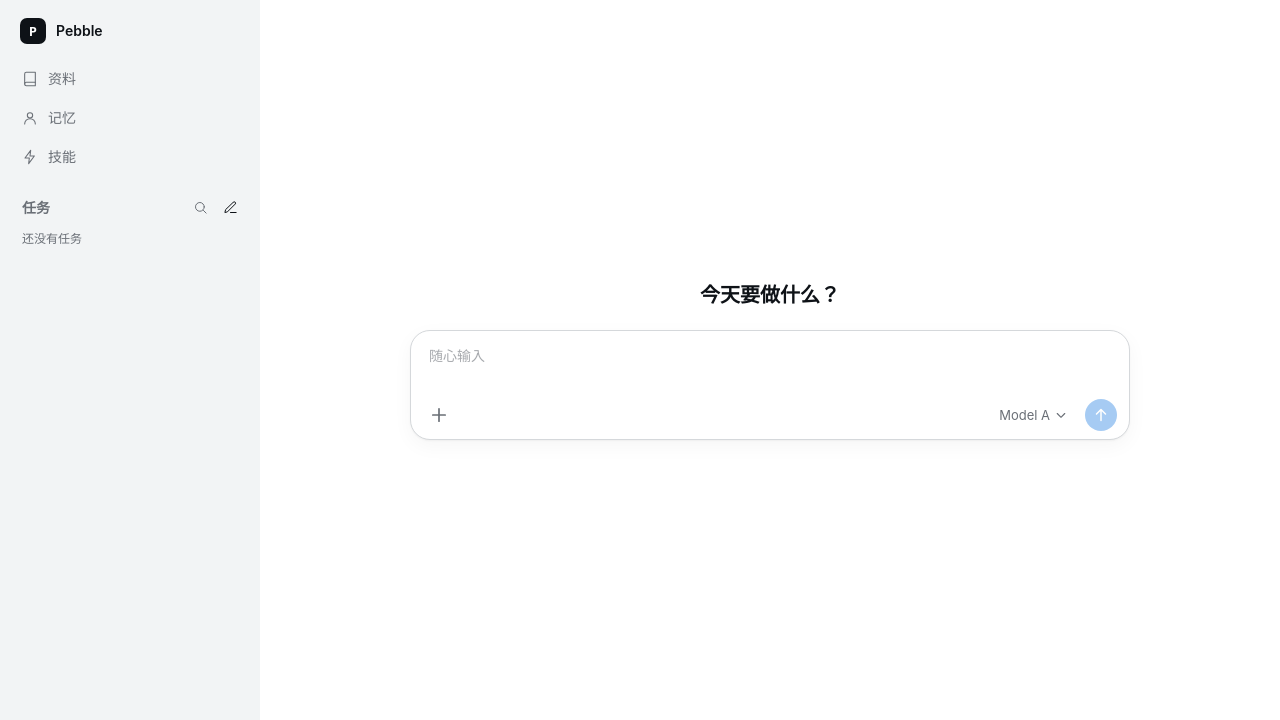
Test: 任务执行中底部按钮换成终止，点击后这一轮不再进行
Type "解释 JIT" into the field named "消息" at x=770, y=369, box [423,343,1117,395]
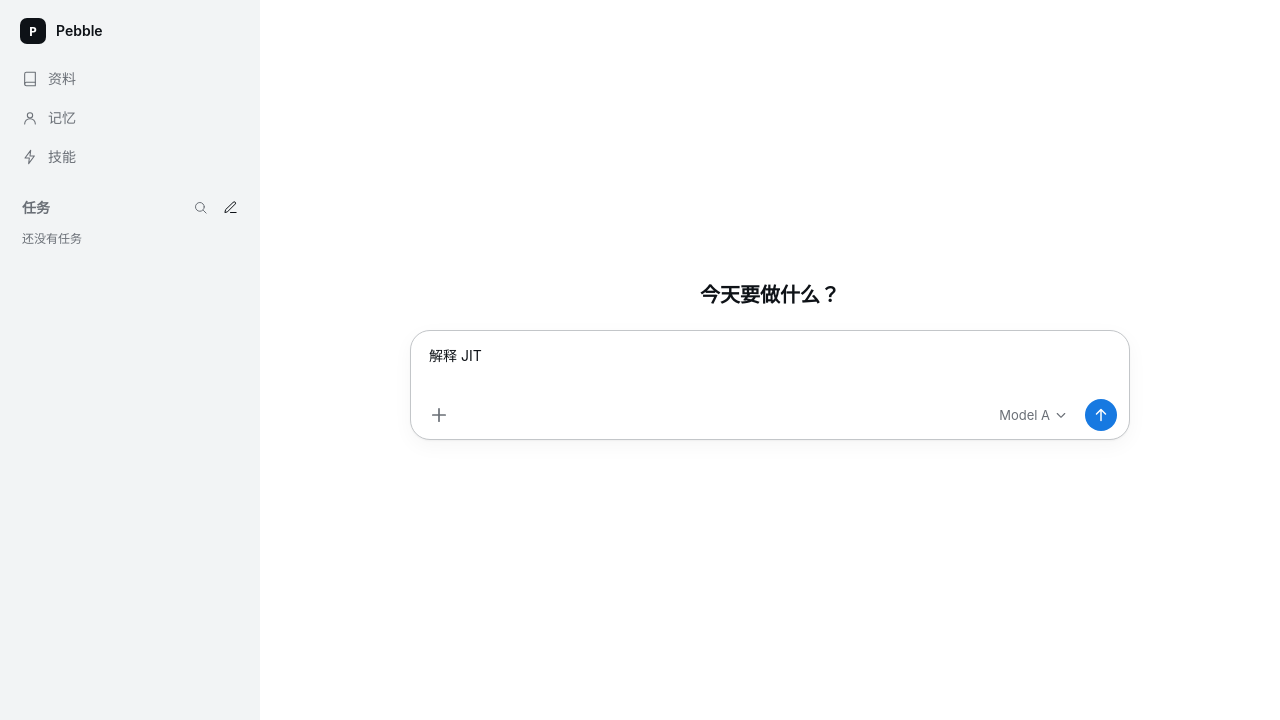
Now the button named "发送" is enabled
Click the button named "发送" at x=1101, y=415, box [1085,399,1117,431]
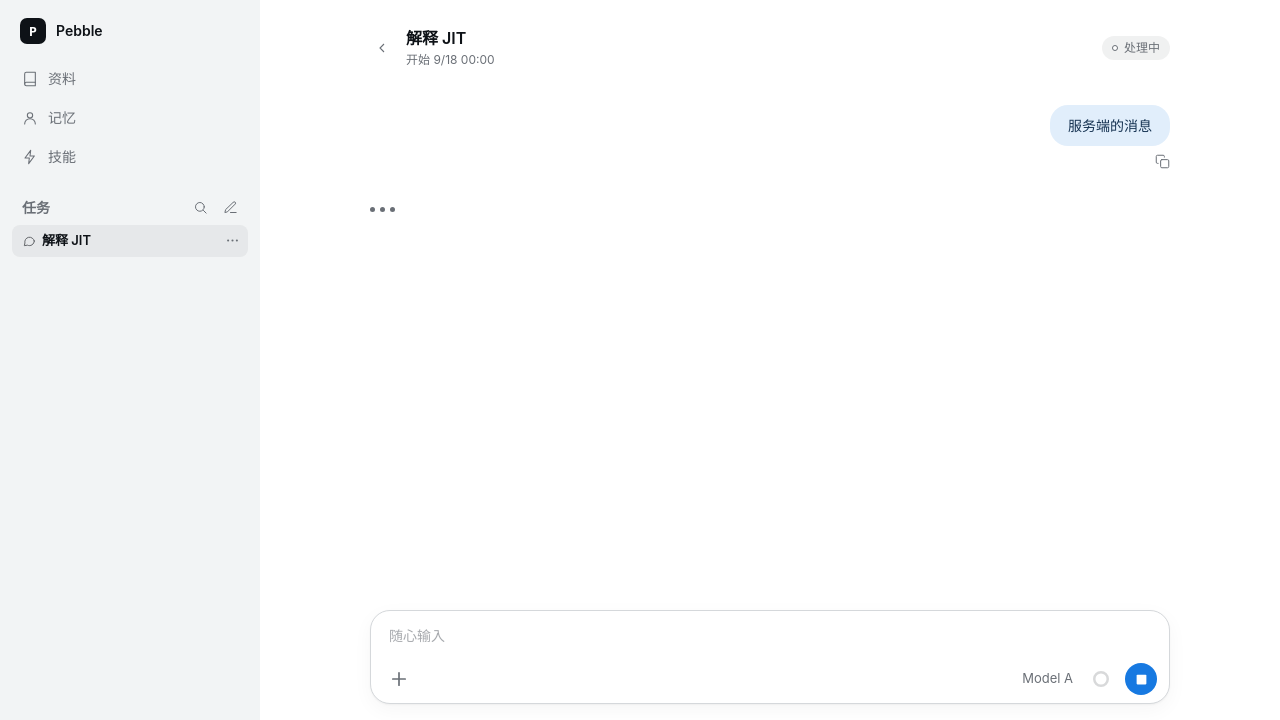
Click the button named "终止" at x=1141, y=679, box [1125,663,1157,695]
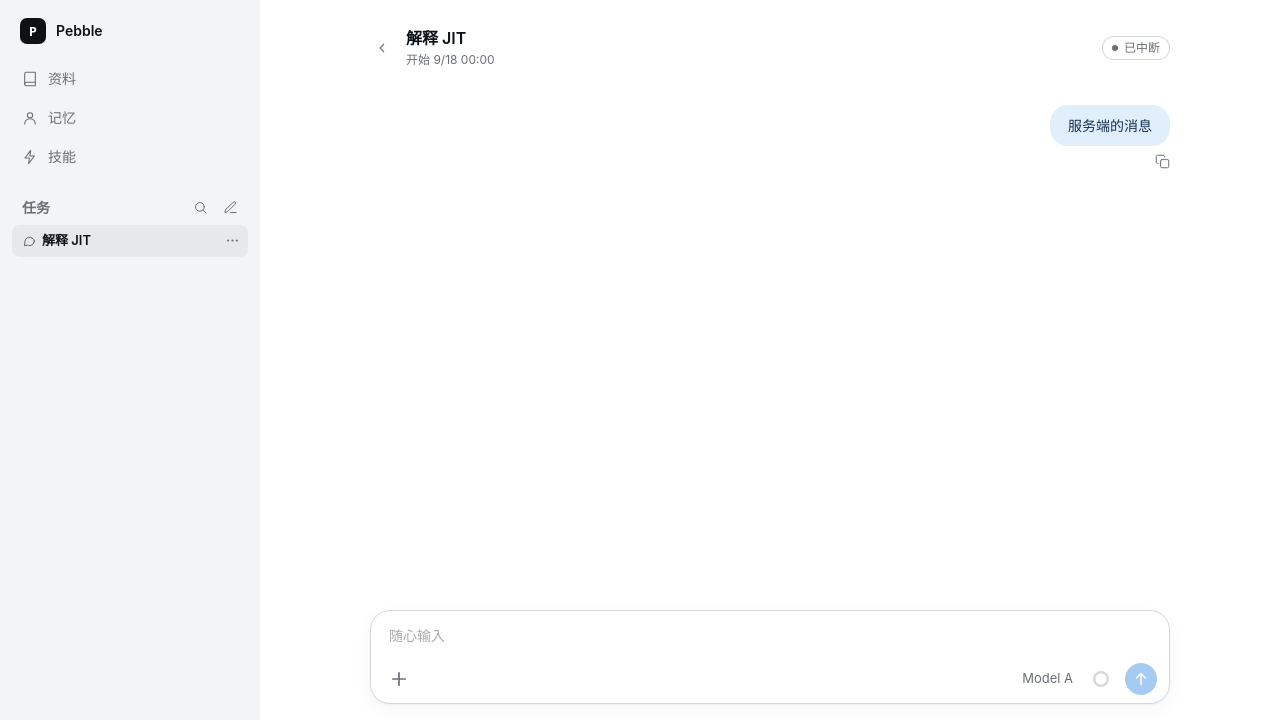
Now the button named "发送" is shown, box [1125,663,1157,695]
